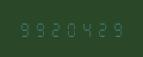four: (77, 20, 91, 37)
nine: (17, 20, 31, 37), (32, 20, 46, 37), (107, 20, 121, 37)
two: (47, 20, 61, 37), (92, 20, 106, 37)
zero: (62, 20, 76, 37)
